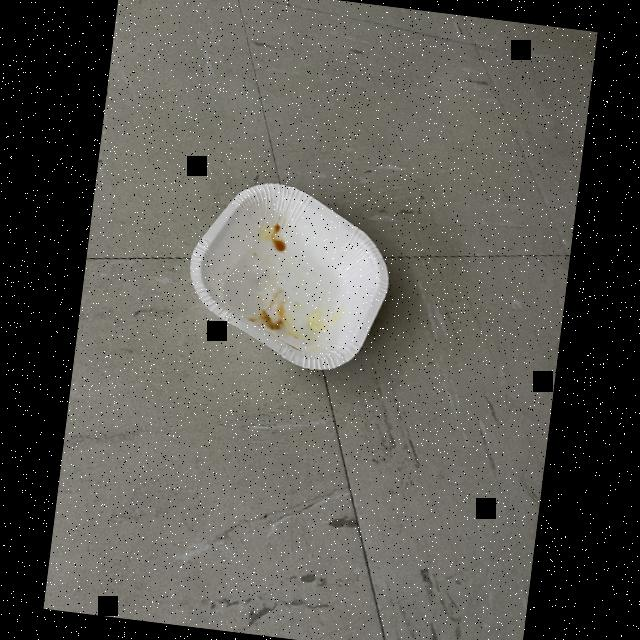cardboard_bowl: (154, 158, 417, 400)
